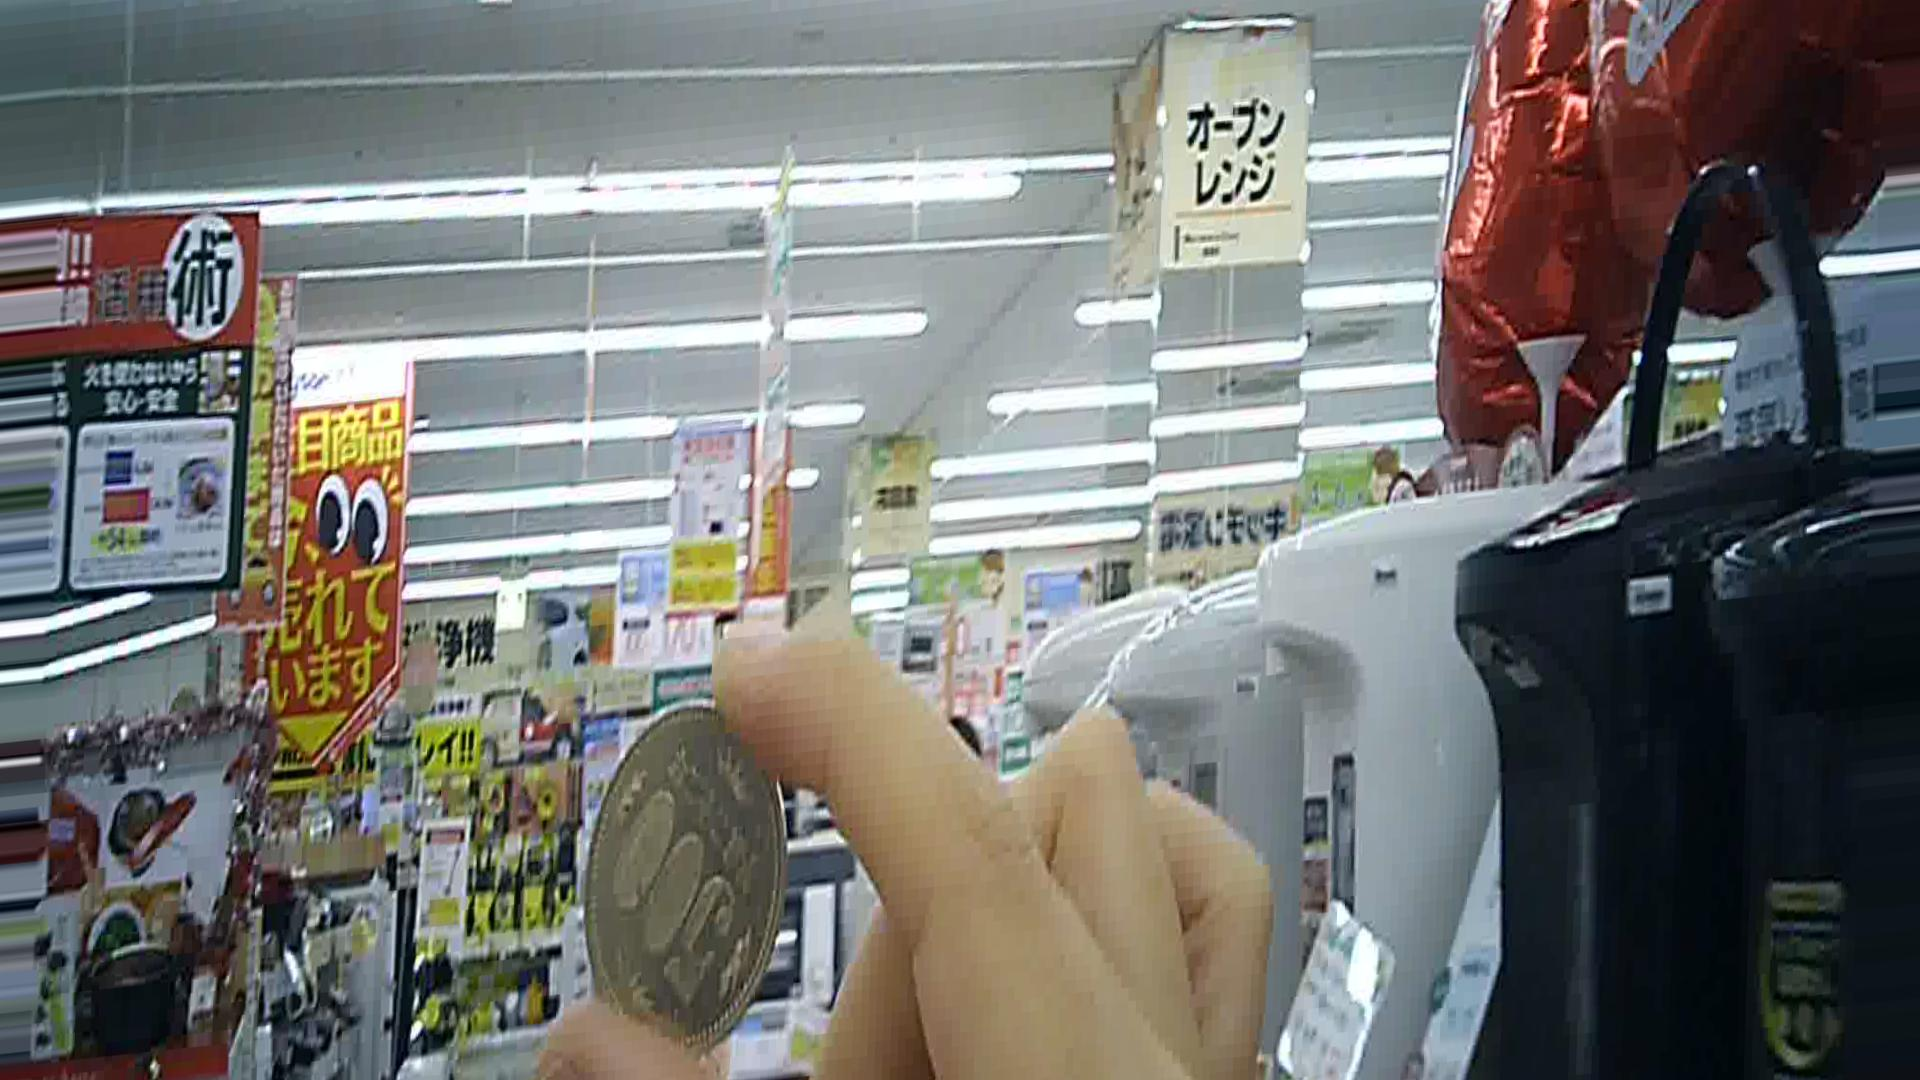500 Yen: (580, 698, 787, 1069)
